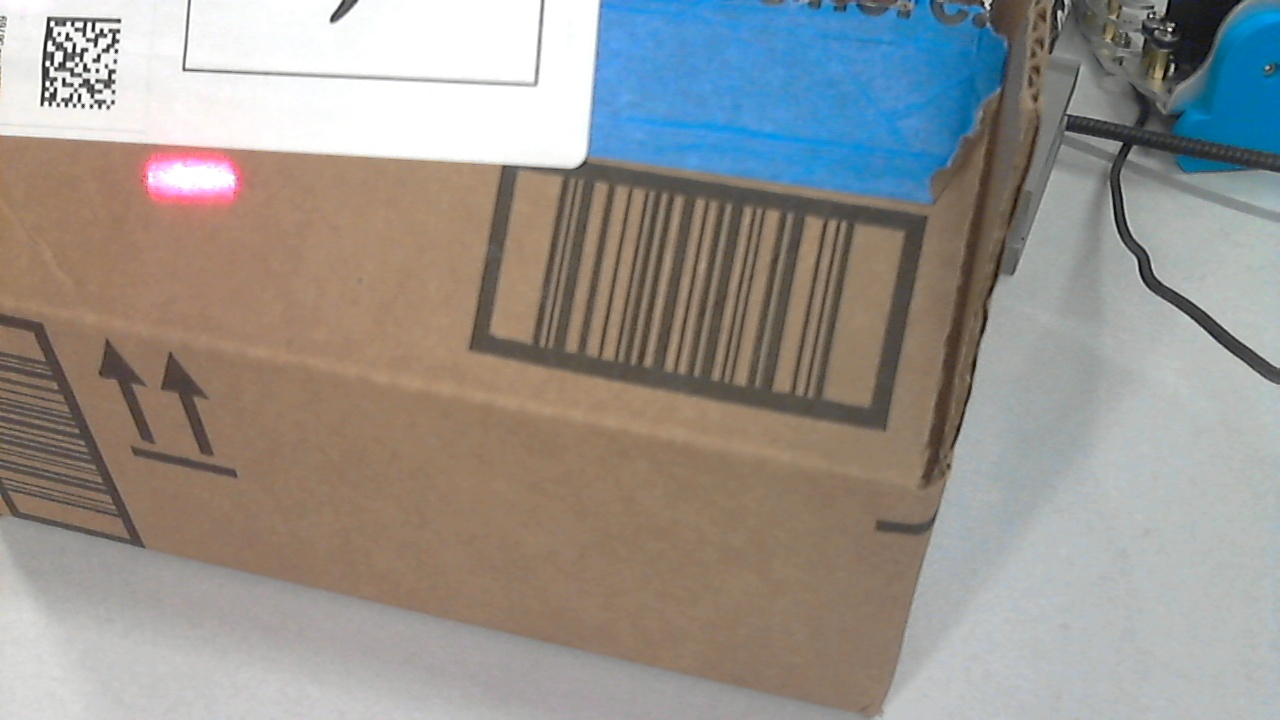Object cardboard shipping box - Material composite - Color brown - Pdfname OHMlP: (104, 134, 241, 211)
